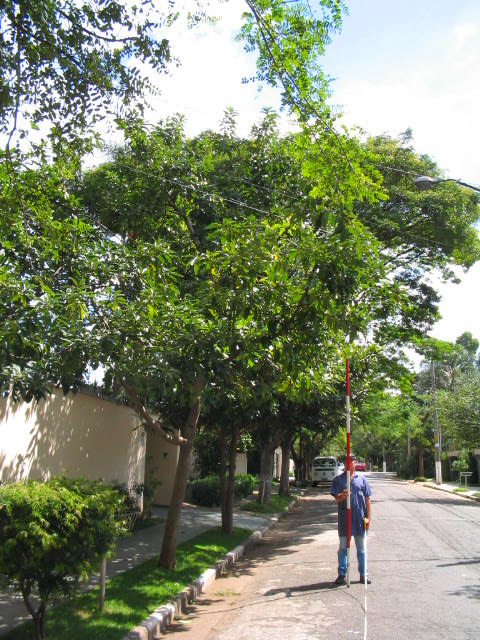crown: (6, 151, 384, 410)
stem: (155, 430, 203, 572)
stick: (337, 358, 356, 589)
tree: (2, 147, 387, 575)
